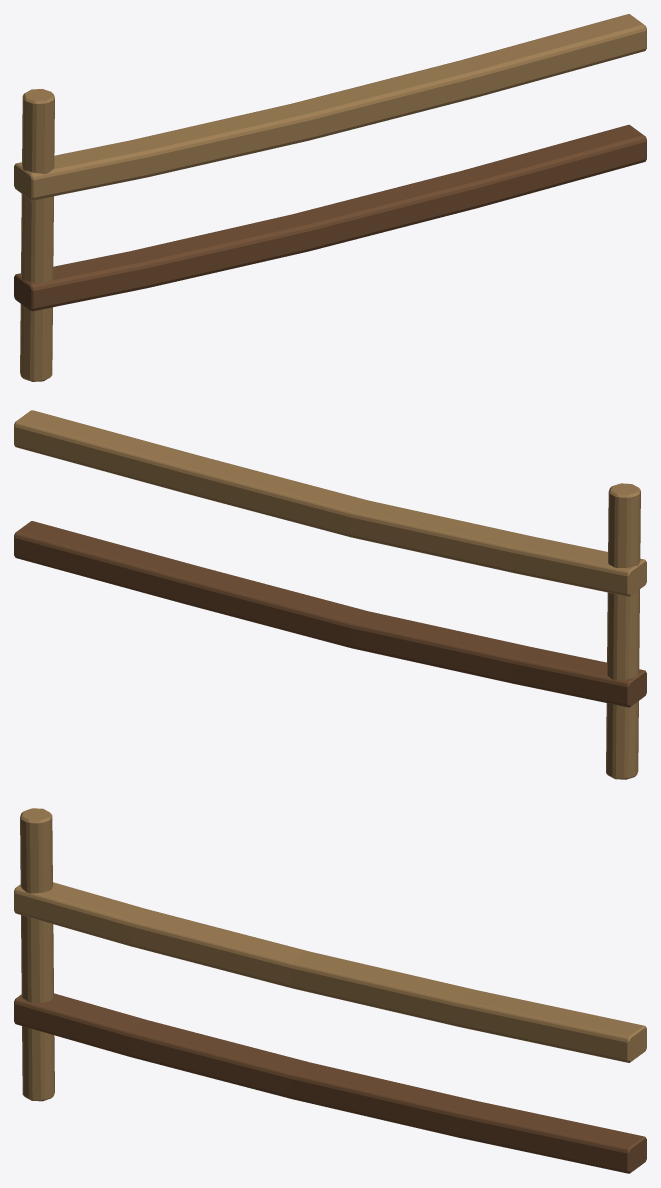
The model's file is post_rail_fence.glb.
3 renders of one model, top to bottom at view 1: azimuth 30°, elevation 25°; view 2: azimuth 150°, elevation 25°; view 3: azimuth 330°, elevation 25°, orthographic.
Visible parts, largest first — view 1: post_rail_fence; view 2: post_rail_fence; view 3: post_rail_fence.
Boxes of the visible parts, x1,y1,x2,y2 form: post_rail_fence: (14,14,646,381); post_rail_fence: (14,410,646,779); post_rail_fence: (14,808,646,1173).
Size of the model in its own units: 2.5 by 1.1 by 0.14.
